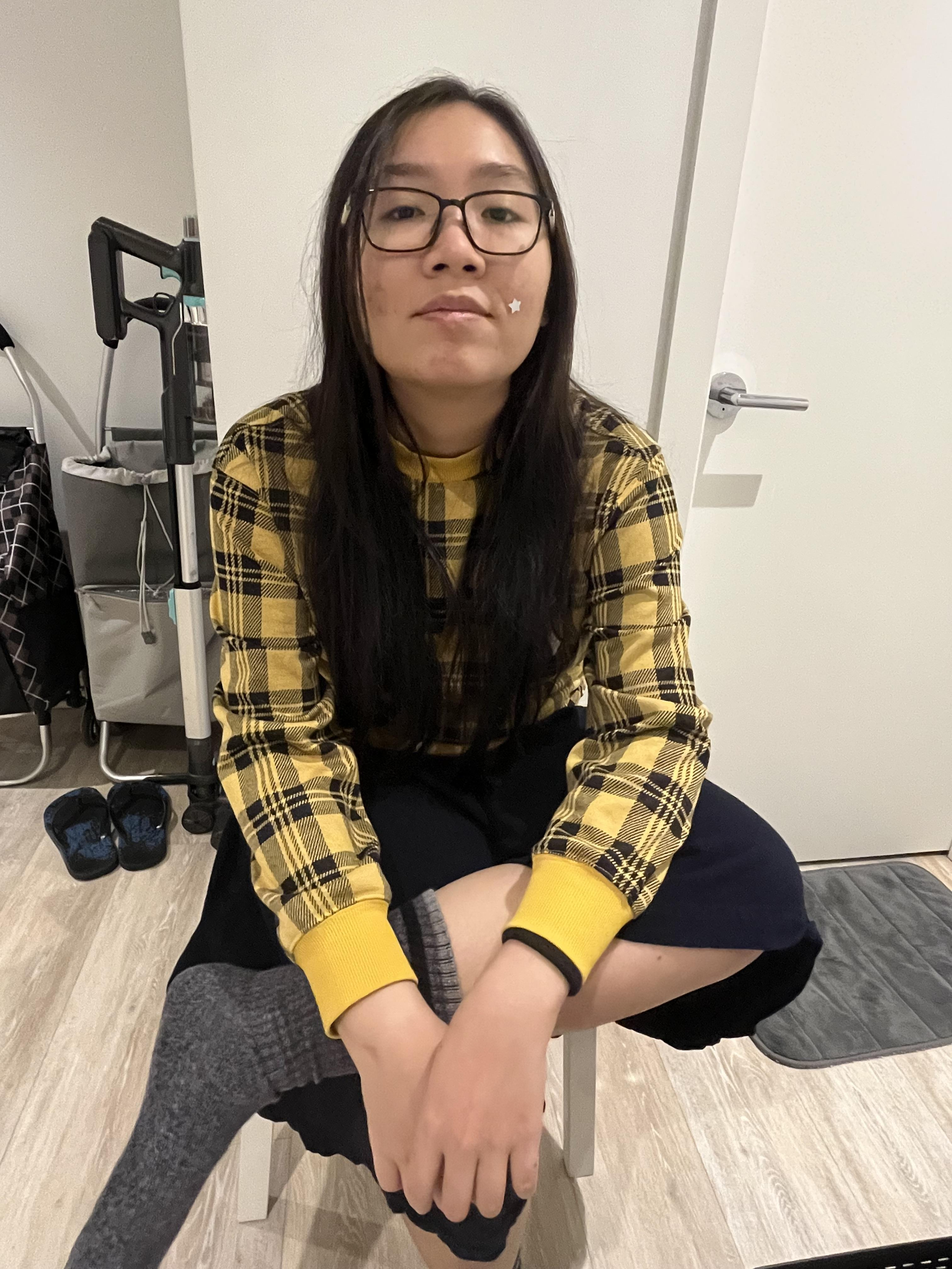BadPosture: (63, 74, 822, 1269)
